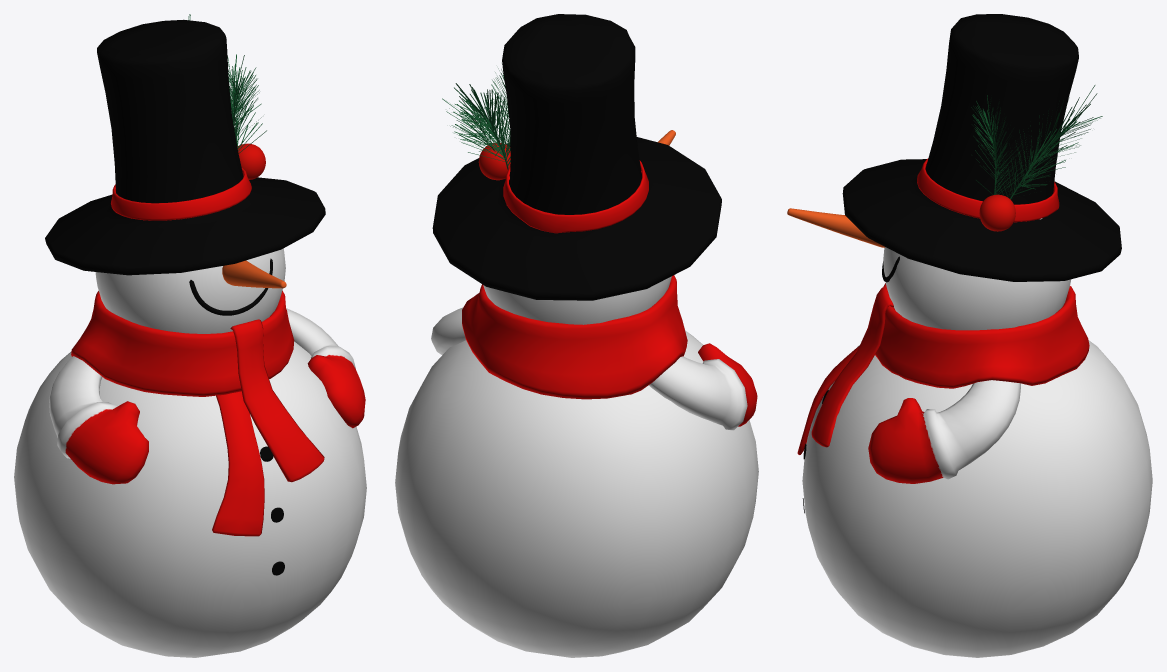
3 renders of one model, left to right at view 1: azimuth 30°, elevation 25°; view 2: azimuth 150°, elevation 25°; view 3: azimuth 270°, elevation 25°, orthographic. The views are drawn at different scales.
Visible parts, largest first — view 1: Snowman; view 2: Snowman; view 3: Snowman.
Part boxes in pixels (bbox=[...]): Snowman: bbox=[14, 14, 366, 657]; Snowman: bbox=[395, 14, 758, 657]; Snowman: bbox=[787, 14, 1152, 657].
Bounding box in the file's own units: 0.9178 × 1.75 × 0.9577.
1 material, 1 textured.
